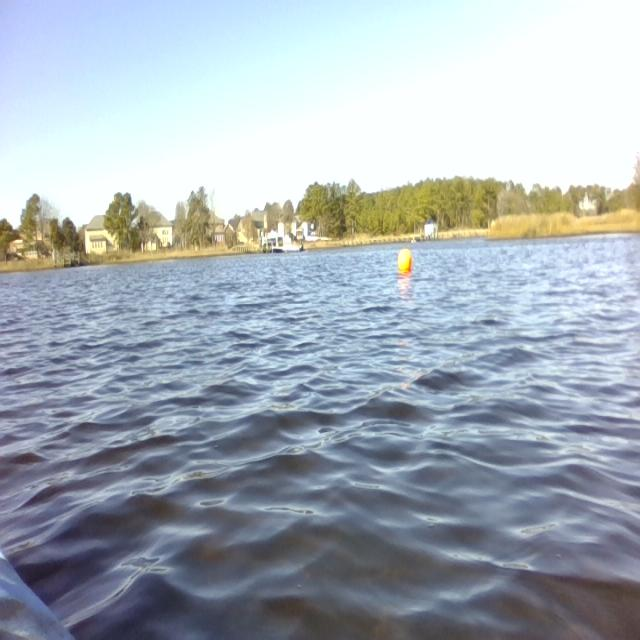Buoy: (392, 243, 416, 280)
